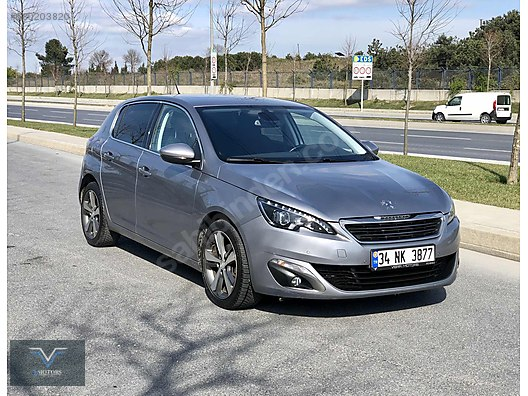peugeot: (73, 92, 466, 314)
